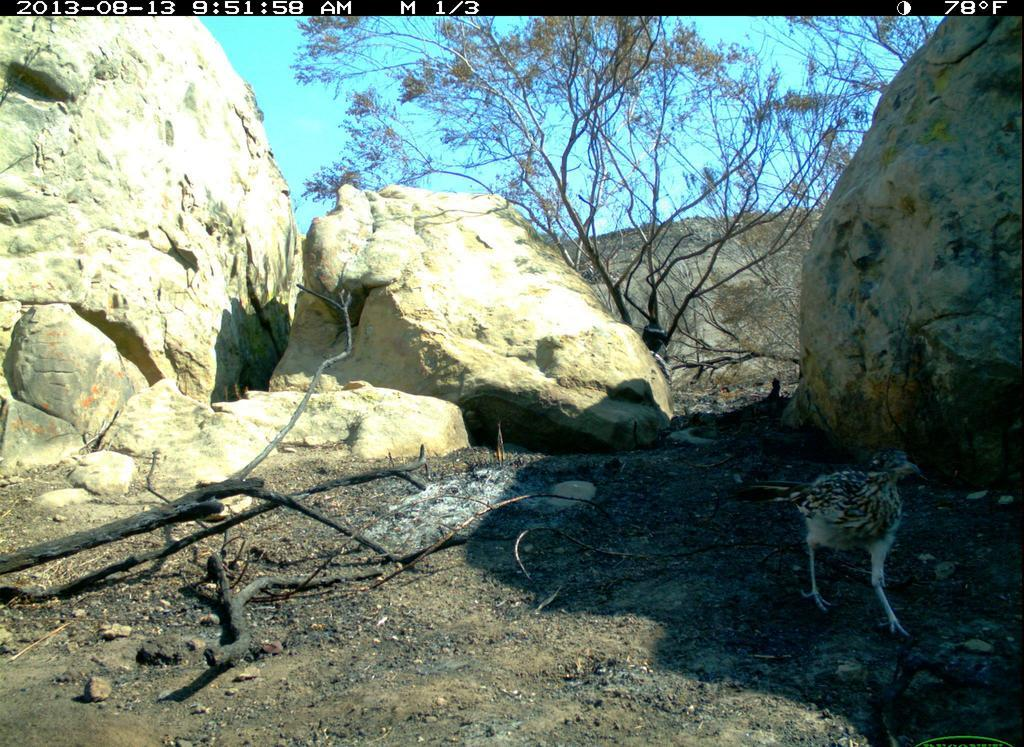bird: (790, 442, 930, 644)
